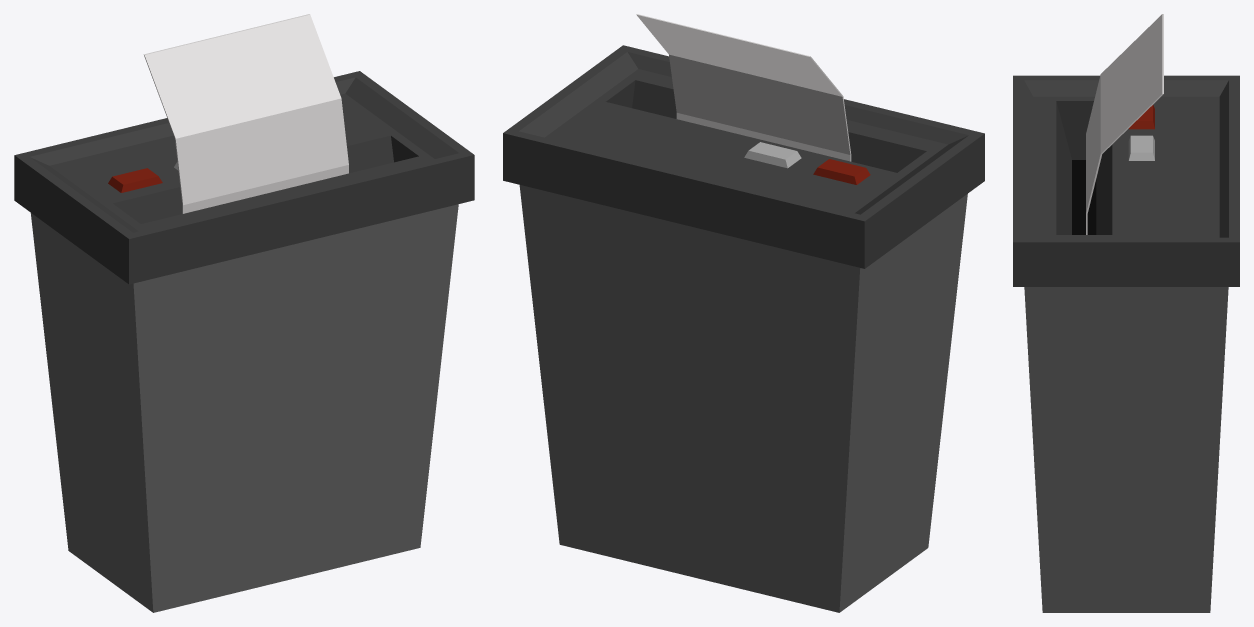
File: PaperShredderV2.fbx
3 renders of one model, left to right at view 1: azimuth 30°, elevation 25°; view 2: azimuth 150°, elevation 25°; view 3: azimuth 270°, elevation 25°, orthographic. The views are drawn at different scales.
Visible parts, largest first — view 1: PaperShredderV2; view 2: PaperShredderV2; view 3: PaperShredderV2.
Part boxes in pixels (<box>): PaperShredderV2: <box>14,14,474,612</box>; PaperShredderV2: <box>503,14,984,612</box>; PaperShredderV2: <box>1013,14,1239,612</box>.
Bounding box in the file's own units: 35.12 × 48.67 × 20.2.
